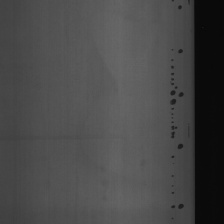oil_spot: (170, 45, 177, 150), (168, 198, 186, 222), (169, 155, 175, 195), (175, 137, 184, 156), (177, 41, 184, 57), (177, 86, 185, 98), (176, 1, 182, 15)
